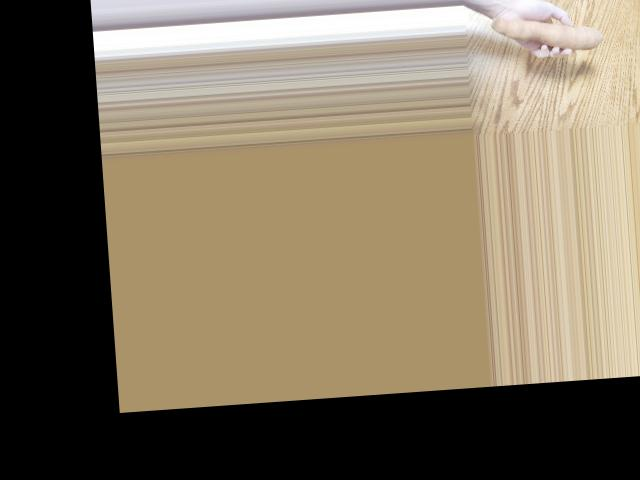sweet_potato: (496, 6, 609, 61)
